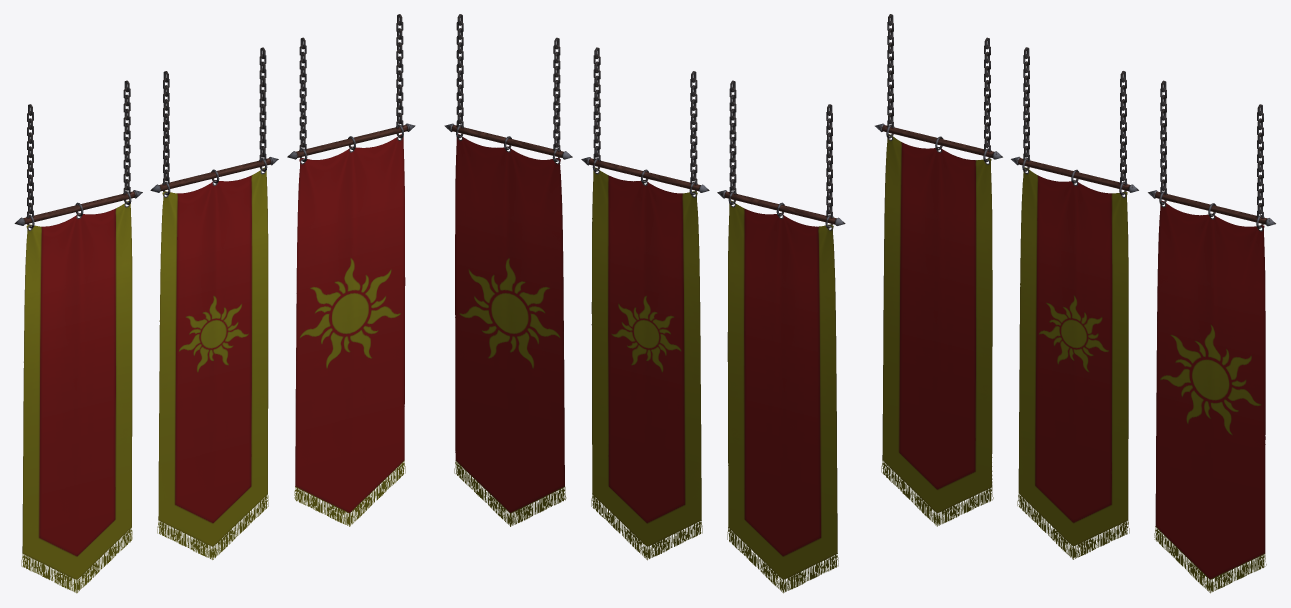
The model's file is gabelen.fbx.
3 renders of one model, left to right at view 1: azimuth 30°, elevation 25°; view 2: azimuth 150°, elevation 25°; view 3: azimuth 330°, elevation 25°, orthographic.
Visible parts, largest first — view 1: gabelen_1, gabelen_3, gabelen_2; view 2: gabelen_3, gabelen_1, gabelen_2; view 3: gabelen_3, gabelen_2, gabelen_1.
Boxes of the visible parts, bbox=[...] form: gabelen_1: bbox=[150, 47, 278, 559]; gabelen_3: bbox=[287, 14, 415, 526]; gabelen_2: bbox=[14, 80, 142, 593]; gabelen_3: bbox=[444, 14, 572, 526]; gabelen_1: bbox=[581, 47, 709, 560]; gabelen_2: bbox=[717, 80, 845, 593]; gabelen_3: bbox=[1148, 80, 1275, 593]; gabelen_2: bbox=[875, 14, 1002, 526]; gabelen_1: bbox=[1011, 47, 1138, 559].
Size of the model in its own units: 3.26 by 3.89 by 0.1042.
Materials: 1 (1 with a texture image).
